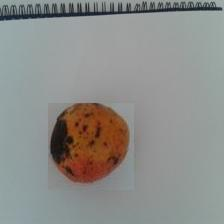Mango Rotten: (48, 104, 134, 191)
